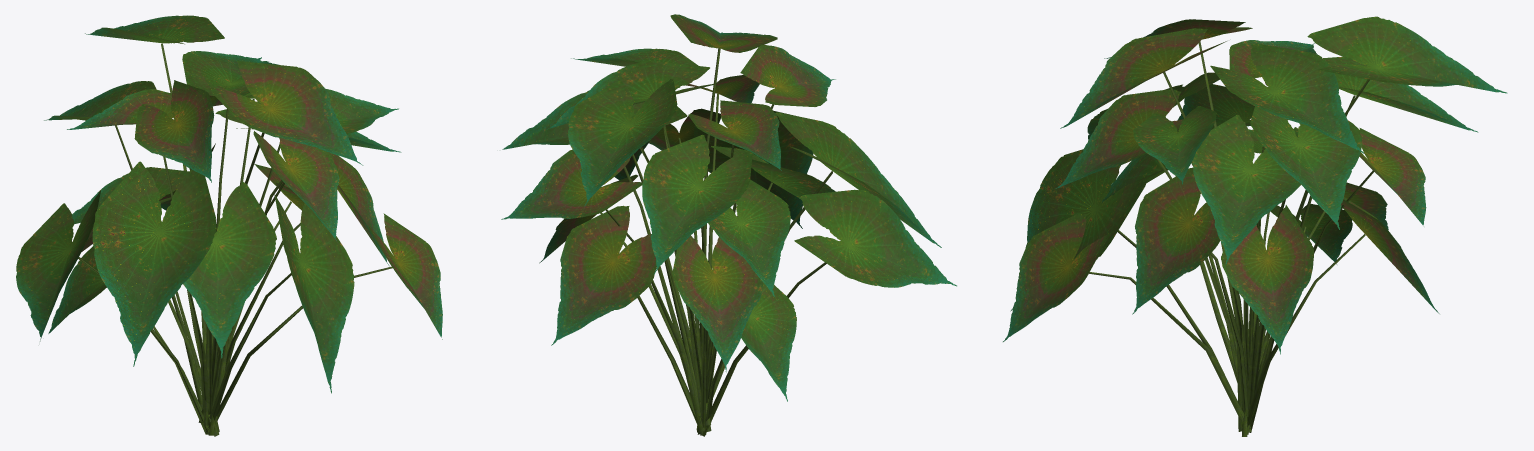
The model's file is PLant_9_L2.fbx.
3 views of the same model, side by side, from view 1: azimuth 30°, elevation 25°; view 2: azimuth 150°, elevation 25°; view 3: azimuth 270°, elevation 25° (orthographic). The views are drawn at different scales.
Visible parts, largest first — view 1: polySurface5; view 2: polySurface5; view 3: polySurface5.
Part boxes in pixels (box(x1,y1,x2,y2)): polySurface5: box(16, 15, 442, 436); polySurface5: box(501, 14, 956, 436); polySurface5: box(1003, 16, 1507, 436).
Bounding box in the file's own units: 225 × 199 × 233.
